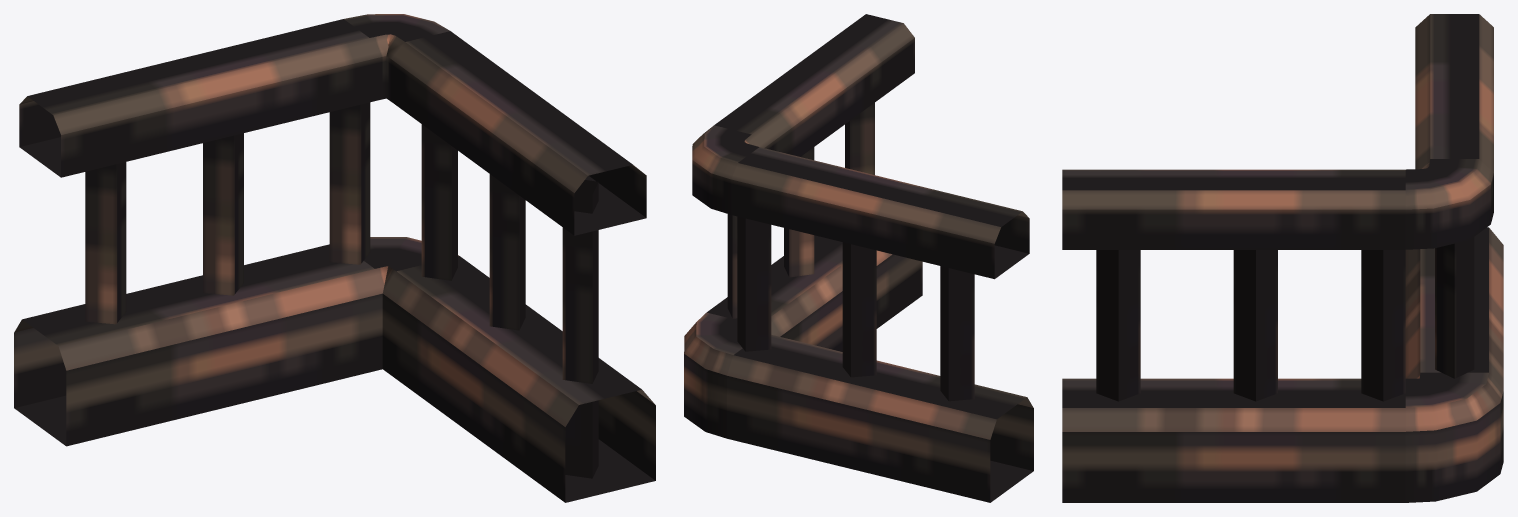
Rendered from EnvBdgMD_Factory_B_Fenece_A_CoOunt_LB.FBX.
3 views of the same model, side by side, from view 1: azimuth 30°, elevation 25°; view 2: azimuth 150°, elevation 25°; view 3: azimuth 270°, elevation 25° (orthographic). The views are drawn at different scales.
Parts seen in each view (by area): view 1: EnvBdgMD_Factory_B_Fenece_A_CoOunt_LB; view 2: EnvBdgMD_Factory_B_Fenece_A_CoOunt_LB; view 3: EnvBdgMD_Factory_B_Fenece_A_CoOunt_LB.
Boxes of the visible parts, left/top/right/bottom form: EnvBdgMD_Factory_B_Fenece_A_CoOunt_LB: left=14, top=14, right=655, bottom=502; EnvBdgMD_Factory_B_Fenece_A_CoOunt_LB: left=684, top=14, right=1033, bottom=502; EnvBdgMD_Factory_B_Fenece_A_CoOunt_LB: left=1062, top=14, right=1503, bottom=502.
Size of the model in its own units: 112 by 85 by 113.
